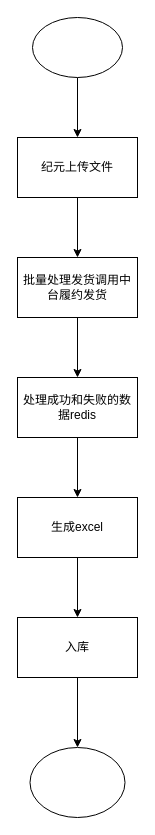
The diagram is 155 pixels wide and 835 high, and some of its shapes have lost their labels. The shapes that lost their labels are listed below. From the top down, each one's box as (x1, y1, x2, y2) in pixels, then its label:
(32, 16, 122, 78): start
(29, 746, 125, 818): end
